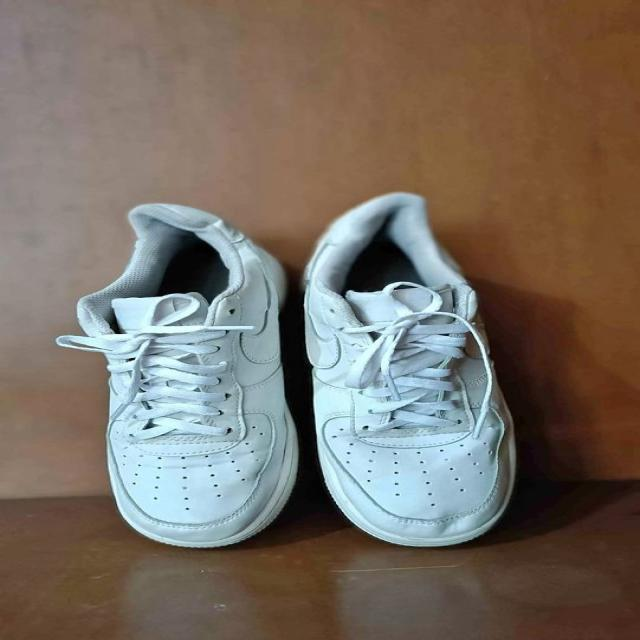nike fake air force: (300, 191, 522, 550), (70, 208, 298, 552)
